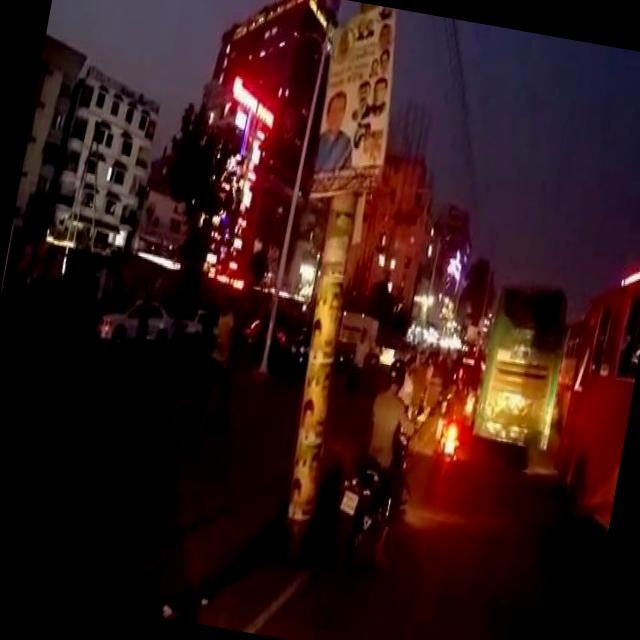bus: (542, 258, 640, 525), (468, 268, 576, 448), (550, 310, 582, 422)
car: (92, 288, 178, 352)
motorcycle: (323, 419, 421, 596), (426, 415, 464, 504), (459, 384, 478, 427)
